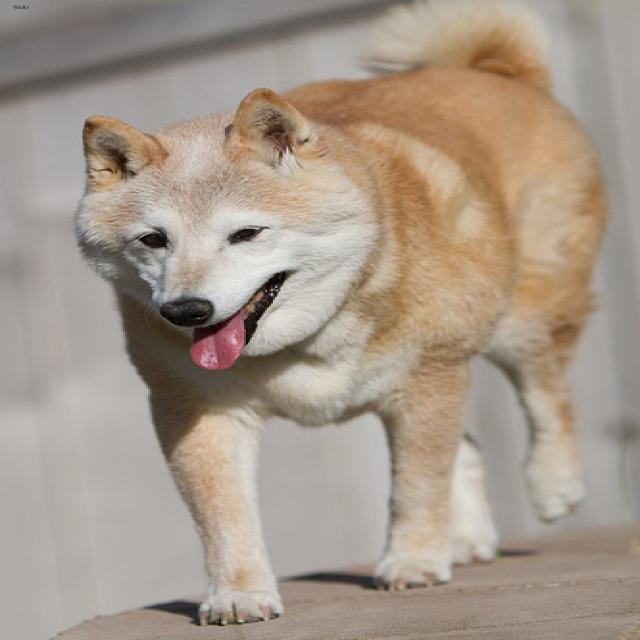dog-shiba_inu: (63, 1, 619, 631)
